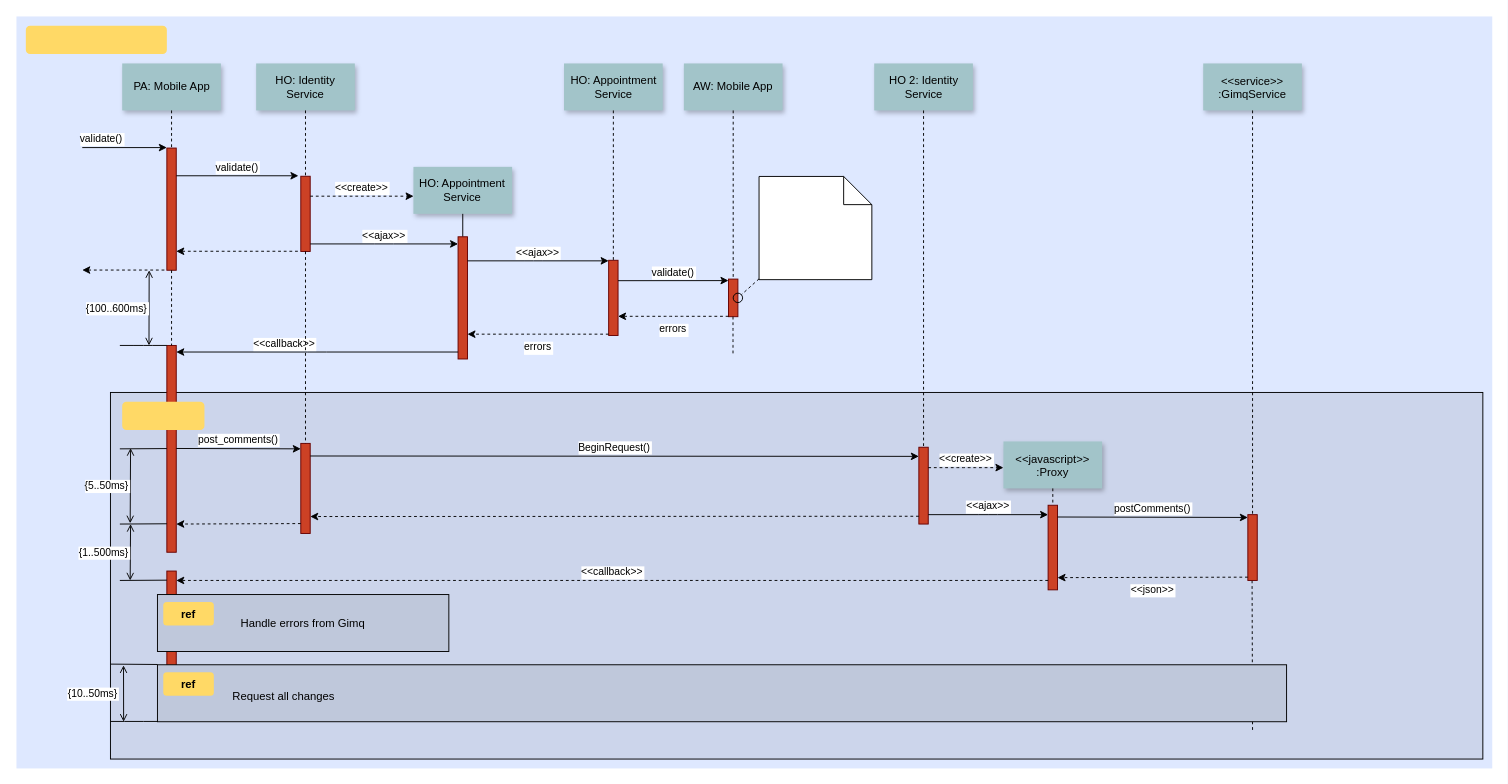
This 1508x784 diagram has some shape labels left out. The centre of each missing label's shape, as x and y in pixels:
"- user validation - password check" goes at point 815,227.
"opt" goes at point 163,415.
"rt submit_changes" goes at point 95,39.
